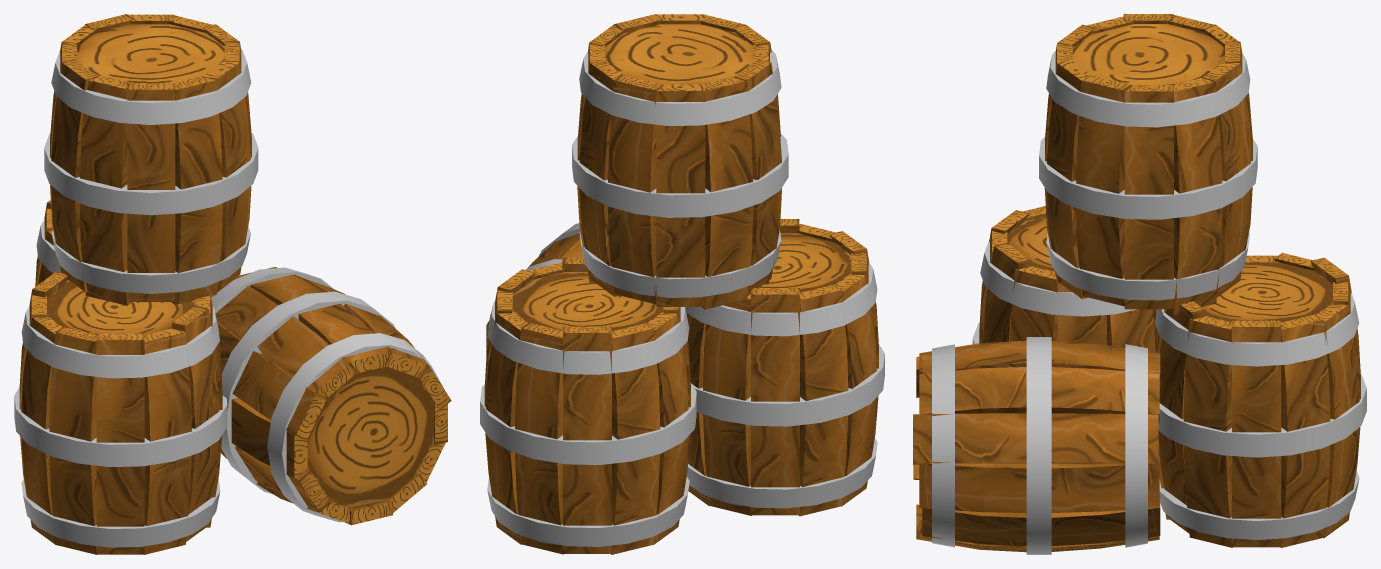
File: Tonnen.fbx
3 renders of one model, left to right at view 1: azimuth 30°, elevation 25°; view 2: azimuth 150°, elevation 25°; view 3: azimuth 270°, elevation 25°, orthographic. The views are drawn at different scales.
Visible parts, largest first — view 1: pasted__pasted__polySurface1, pasted__polySurface1, pasted__pasted__pasted__polySurface1, pasted__pasted__pasted__pCylinder1; view 2: pasted__pasted__polySurface1, pasted__polySurface1, polySurface10, polySurface12, polySurface2, pCylinder1, pasted__pCylinder1, pasted__pasted__pasted__pCylinder1, polySurface6, pasted__pasted__pasted__pasted__pCylinder1, polySurface9, pasted__pasted__pasted__polySurface1 (+3 smaller); view 3: pasted__pasted__polySurface1, pasted__pasted__pasted__polySurface1, pasted__polySurface1, polySurface7, polySurface5, polySurface4, pCylinder1, pasted__pCylinder1, pasted__pasted__pasted__pCylinder1, polySurface6, pasted__pasted__pasted__pasted__pCylinder1, polySurface3 (+2 smaller).
Boxes of the visible parts, left/top/right/bottom form: pasted__pasted__polySurface1: left=44, top=14, right=258, bottom=305; pasted__polySurface1: left=14, top=271, right=227, bottom=554; pasted__pasted__pasted__polySurface1: left=211, top=267, right=451, bottom=525; pasted__pasted__pasted__pCylinder1: left=36, top=219, right=60, bottom=272; pasted__pasted__polySurface1: left=572, top=14, right=788, bottom=309; pasted__polySurface1: left=685, top=219, right=884, bottom=516; polySurface10: left=563, top=326, right=611, bottom=553; polySurface12: left=611, top=323, right=660, bottom=554; polySurface2: left=515, top=322, right=563, bottom=554; pCylinder1: left=512, top=272, right=663, bottom=331; pasted__pCylinder1: left=480, top=384, right=696, bottom=464; pasted__pasted__pasted__pCylinder1: left=487, top=301, right=689, bottom=374; polySurface6: left=486, top=312, right=527, bottom=544; pasted__pasted__pasted__pasted__pCylinder1: left=487, top=476, right=689, bottom=546; polySurface9: left=647, top=311, right=688, bottom=544; pasted__pasted__pasted__polySurface1: left=486, top=223, right=583, bottom=355; pasted__pasted__polySurface1: left=1039, top=14, right=1257, bottom=314; pasted__pasted__pasted__polySurface1: left=913, top=337, right=1160, bottom=554; pasted__polySurface1: left=972, top=206, right=1157, bottom=352; polySurface7: left=1232, top=320, right=1281, bottom=547; polySurface5: left=1280, top=314, right=1330, bottom=547; polySurface4: left=1183, top=316, right=1232, bottom=547; pCylinder1: left=1202, top=262, right=1332, bottom=322; pasted__pCylinder1: left=1158, top=373, right=1366, bottom=457; pasted__pasted__pasted__pCylinder1: left=1154, top=292, right=1359, bottom=366; polySurface6: left=1317, top=303, right=1359, bottom=538; pasted__pasted__pasted__pasted__pCylinder1: left=1159, top=470, right=1359, bottom=539; polySurface3: left=1158, top=301, right=1206, bottom=533.
Size of the model in its own units: 2.94 by 3.38 by 3.16.
